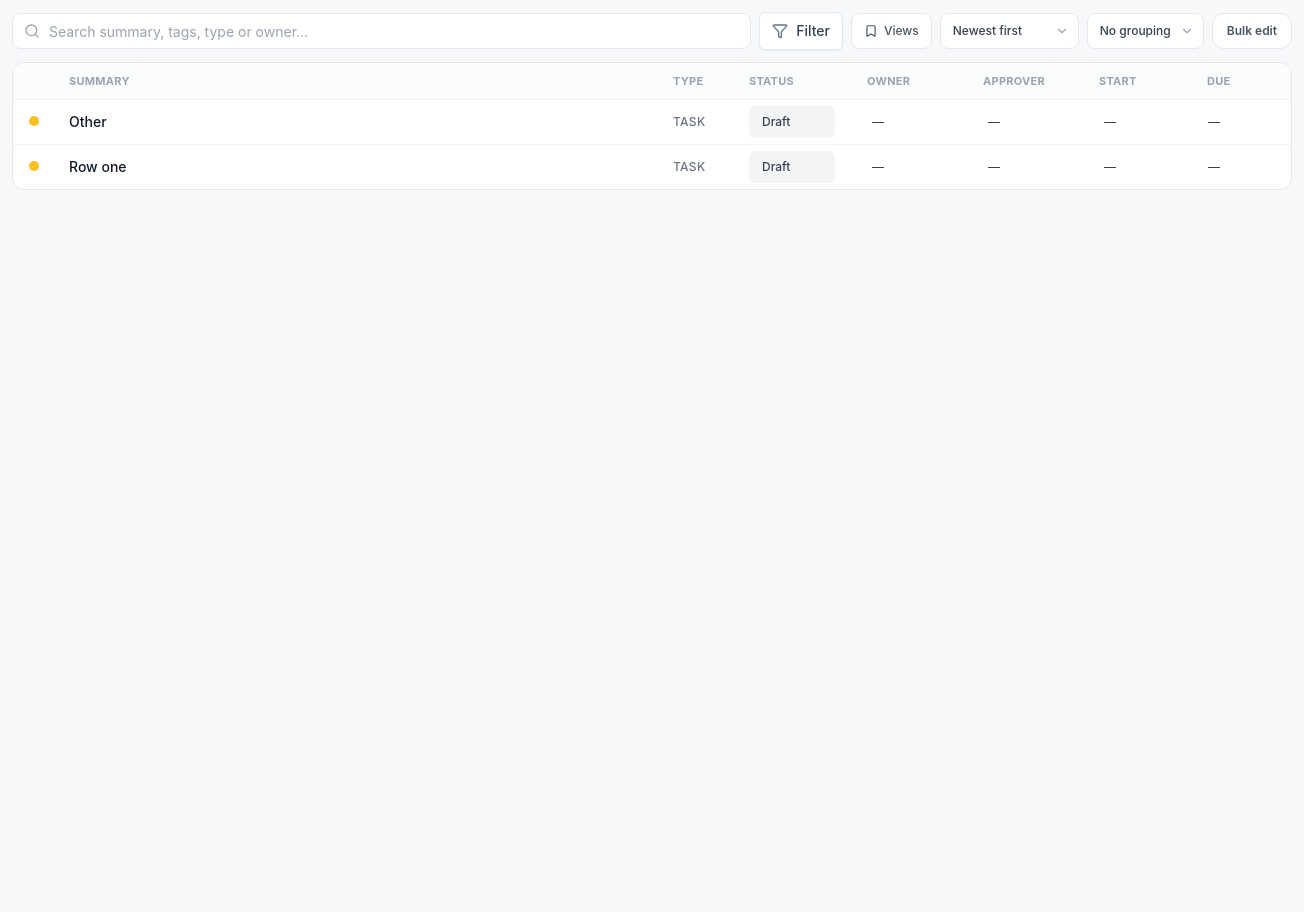
Test case: ListView row context menu (Step 1) › closes menu on outside pointerdown
Expected: the text "Row one" is shown, [69, 158, 126, 175]
Right-click the text "Row one": (652, 167) [13, 144, 1291, 189]
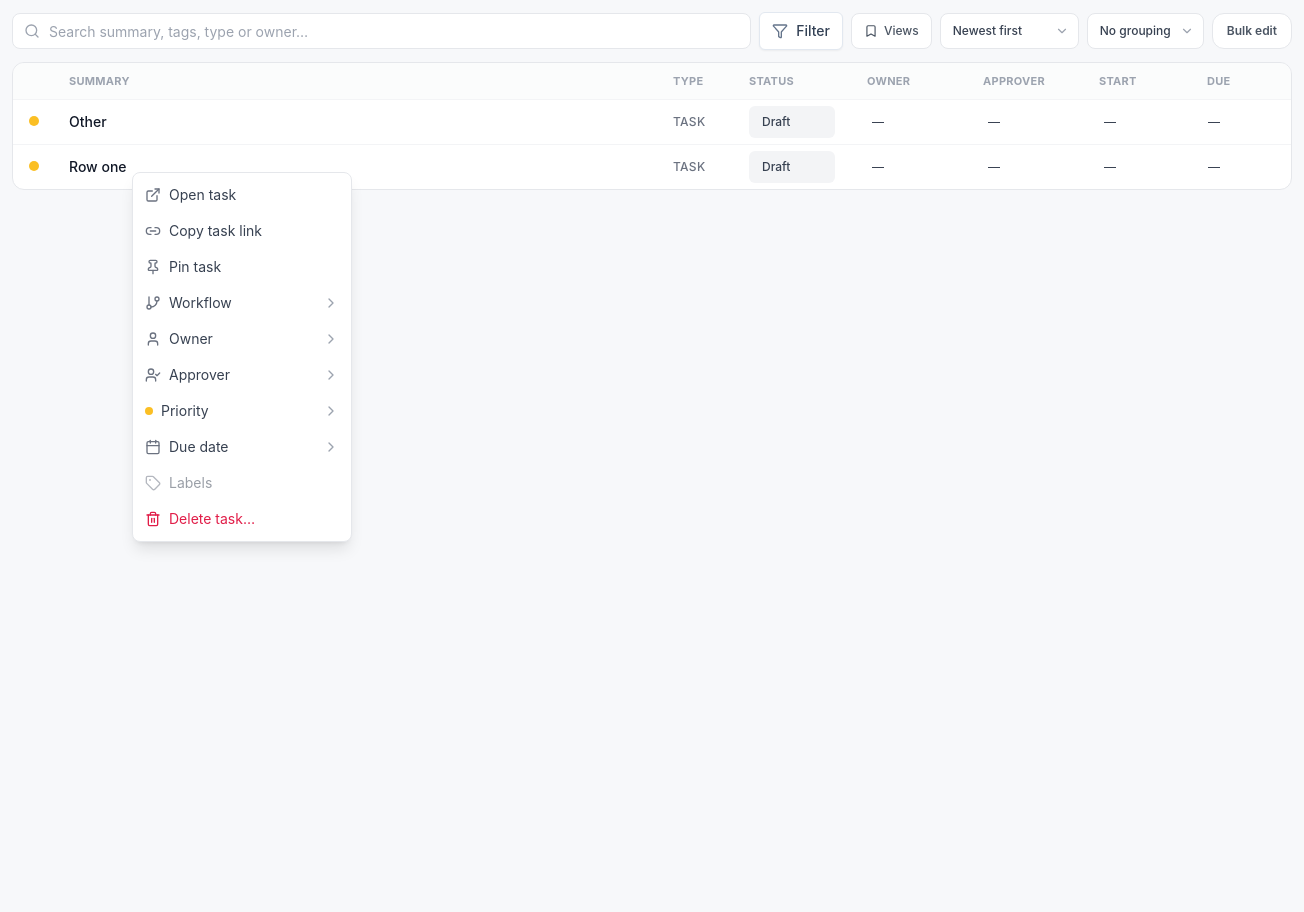
Result: the menu is shown at [132, 172, 352, 542]
Press the mouse on the element that starts with "Filter": (652, 462) [12, 12, 1292, 911]
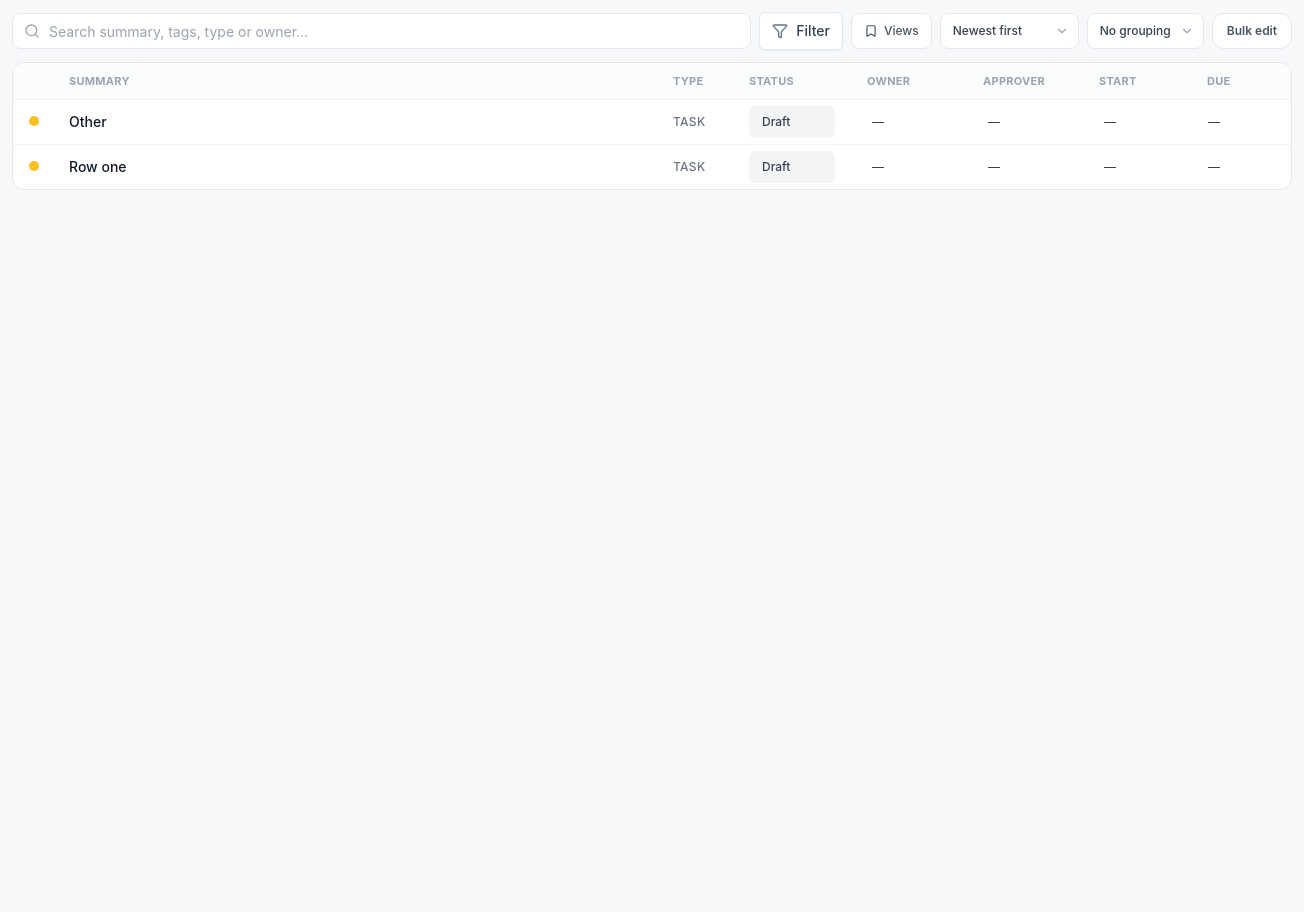
Result: the menu is gone
